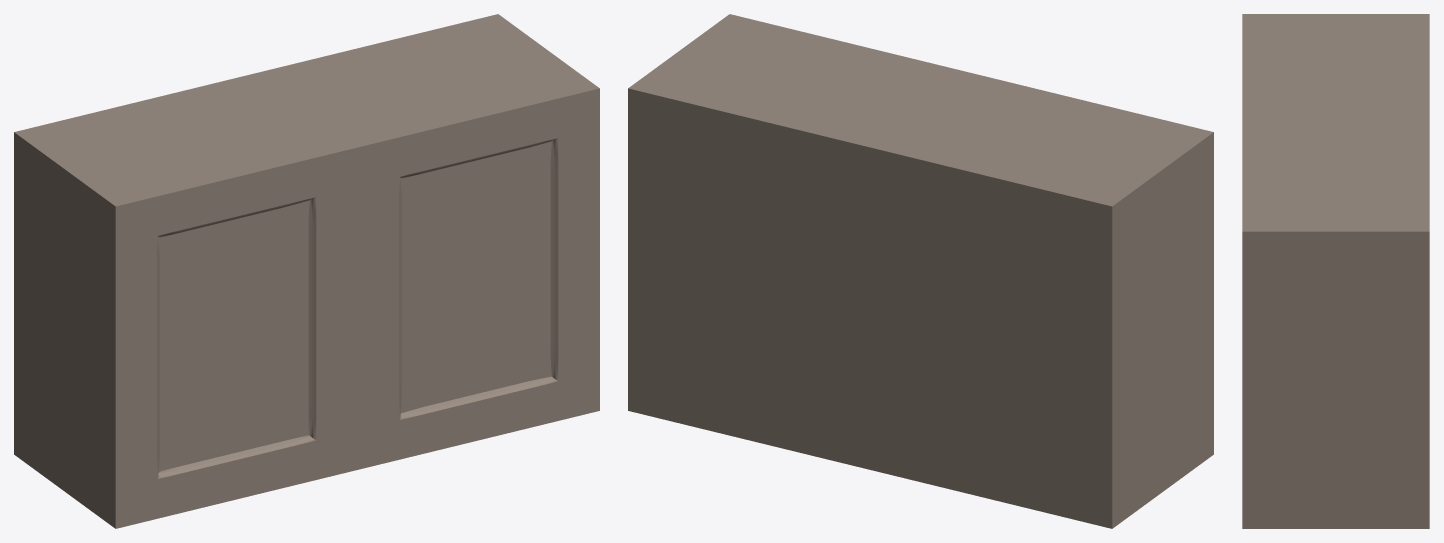
The model's file is Wall-Cabinet-21-High-12-Deep_std_001_W33in.glb.
The picture shows the model from 3 angles, left to right: view 1: azimuth 30°, elevation 25°; view 2: azimuth 150°, elevation 25°; view 3: azimuth 270°, elevation 25°; orthographic projection. The views are drawn at different scales.
Visible parts, largest first — view 1: Wall-Cabinet-21-High-12-Deep.std.001_W33in; view 2: Wall-Cabinet-21-High-12-Deep.std.001_W33in; view 3: Wall-Cabinet-21-High-12-Deep.std.001_W33in.
Part boxes in pixels (x1=…): Wall-Cabinet-21-High-12-Deep.std.001_W33in: x1=14, y1=14, x2=599, y2=528; Wall-Cabinet-21-High-12-Deep.std.001_W33in: x1=628, y1=14, x2=1213, y2=528; Wall-Cabinet-21-High-12-Deep.std.001_W33in: x1=1242, y1=14, x2=1429, y2=528.
Bounding box in the file's own units: 0.8382 × 0.5334 × 0.3048.
